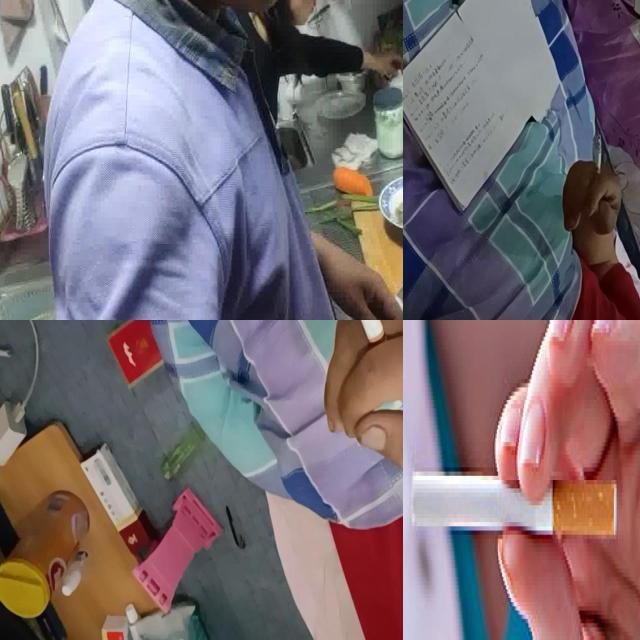smoking: (410, 471, 618, 538), (346, 320, 394, 364), (594, 134, 602, 186)
